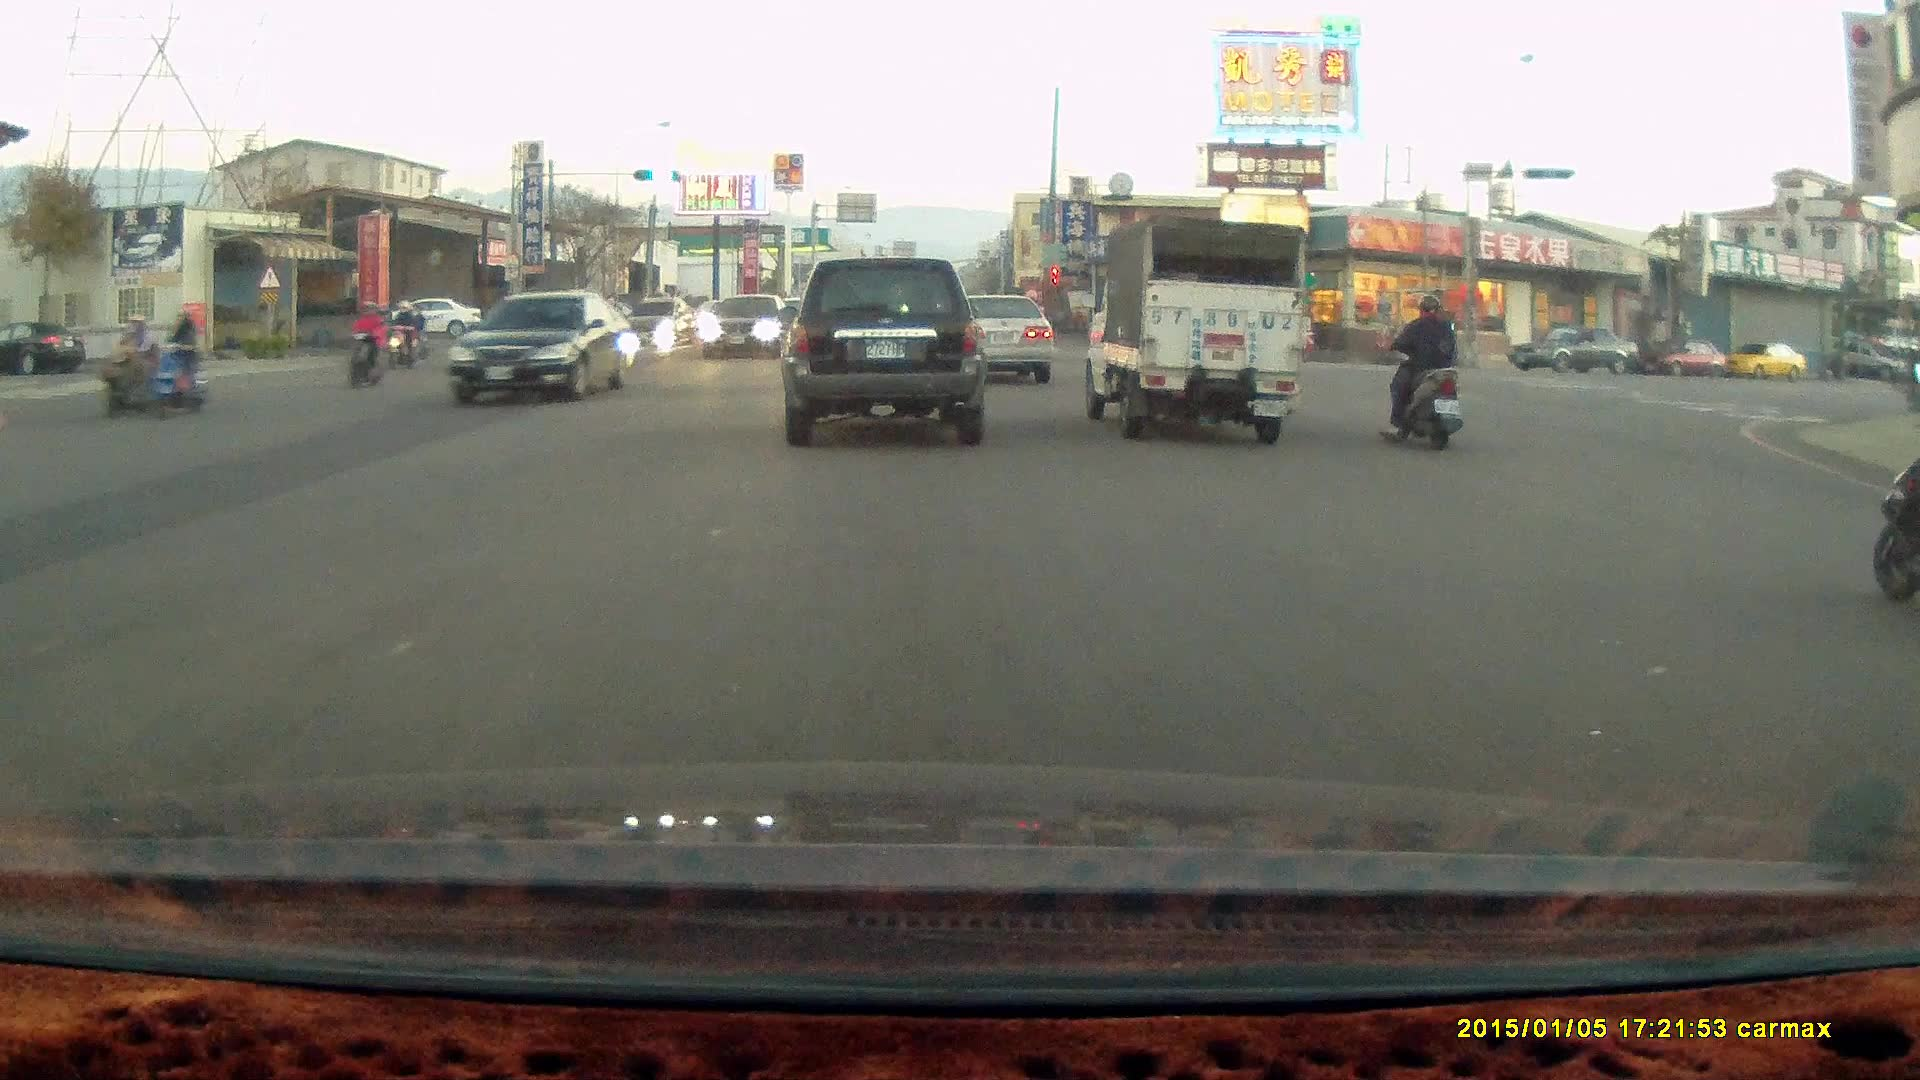rider: (1379, 289, 1464, 451), (1869, 422, 1920, 603), (131, 309, 202, 418), (96, 313, 165, 419), (344, 298, 385, 390), (388, 301, 423, 368)
vehicle: (1073, 215, 1303, 444), (779, 253, 987, 448), (452, 290, 640, 408), (936, 290, 1054, 385), (950, 293, 1058, 387), (697, 293, 796, 364), (1506, 324, 1643, 373), (388, 297, 486, 342), (1644, 339, 1732, 382), (1723, 341, 1810, 381)
